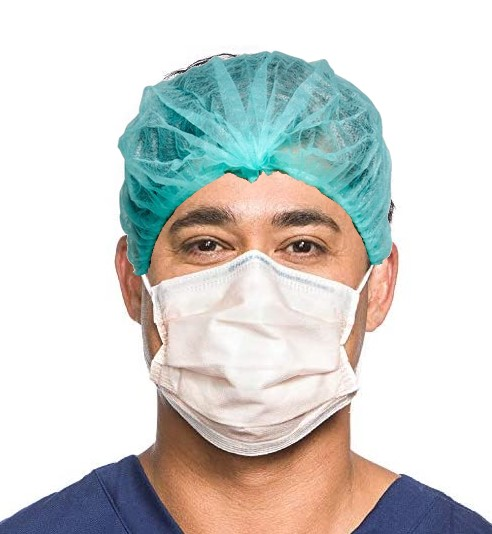with_mask_and_cap: (118, 62, 399, 456)
